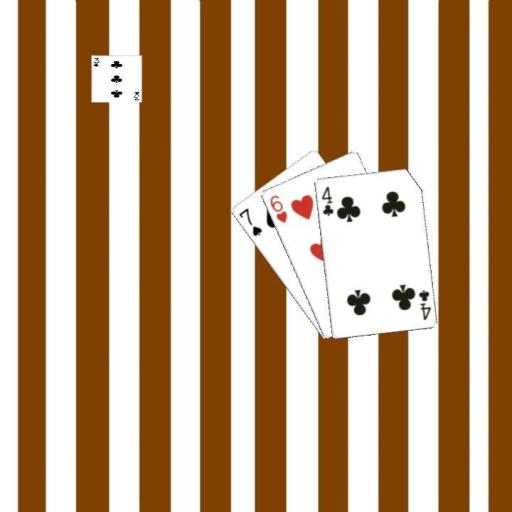4C: (416, 287, 433, 322), (318, 183, 335, 217)
6H: (267, 192, 289, 224)
7S: (235, 205, 263, 237)
